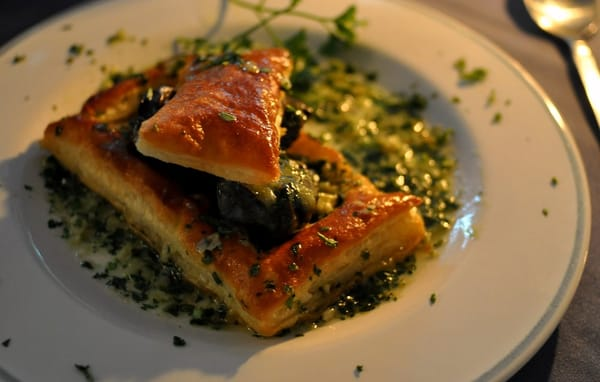curry: (283, 31, 458, 235)
salad: (523, 2, 600, 135)
soup: (37, 31, 454, 338)
